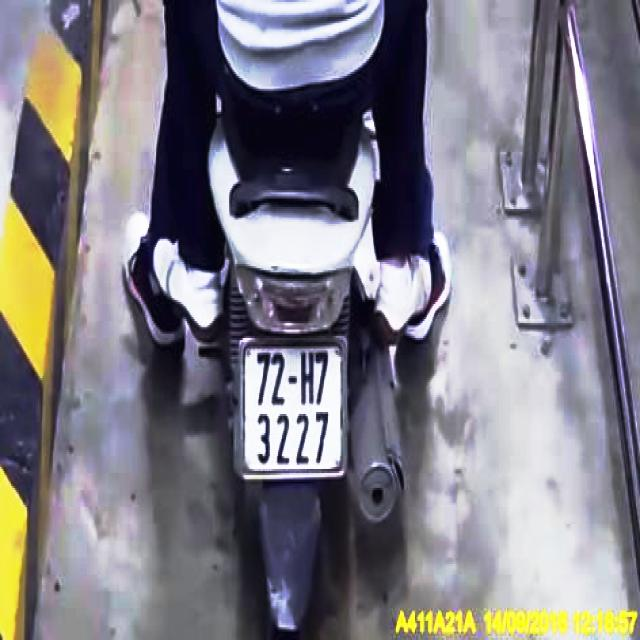license_plate: (244, 340, 345, 470)
